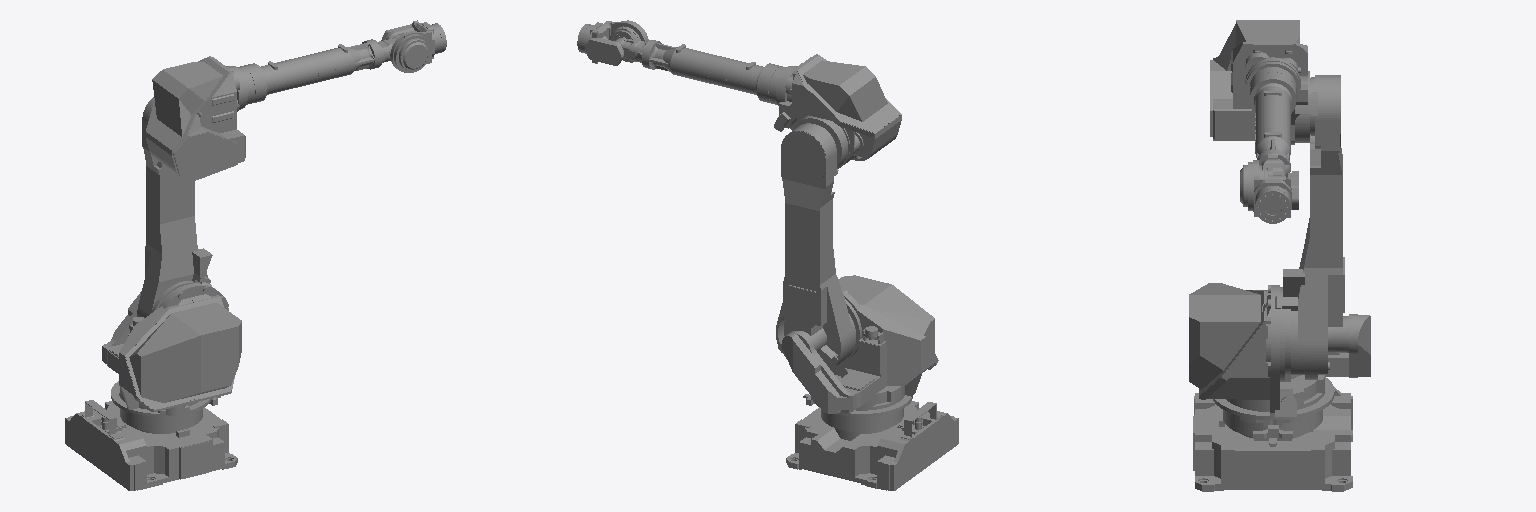
The robot description file, URDF, robot "m710ic_50":
<?xml version='1.0' encoding='utf-8'?>
<robot name="m710ic_50">
  <link name="world" />
  <link name="ee_link" />
  <link name="base_link">
    <visual>
      <origin rpy="0 0 0" xyz="0 0 0" />
      <geometry>
        <mesh filename="meshes/visual/base.obj" />
      </geometry>
      <material name="fanuc_gray">
        <color rgba="0.6 0.6 0.6 1"/>
      </material>
    </visual>
    <collision>
      <origin rpy="0 0 0" xyz="0 0 0" />
      <geometry>
        <mesh filename="meshes/collision/base.obj" />
      </geometry>
    </collision>
    <inertial>
      <mass value=" 130" />
      <origin xyz="-.0493 -.000226  .119" />
      <inertia ixx=" 3.45" ixy=" .0092" ixz=" .0522" iyy=" 3.53" iyz="-.00428" izz=" 5.62" />
    </inertial>
  </link>
  <link name="J1_link">
    <visual>
      <origin rpy="0 0 0" xyz="0 0 0" />
      <geometry>
        <mesh filename="meshes/visual/j1.obj" />
      </geometry>
      <material name="fanuc_gray">
        <color rgba="0.6 0.6 0.6 1"/>
      </material>
    </visual>
    <collision>
      <origin rpy="0 0 0" xyz="0 0 0" />
      <geometry>
        <mesh filename="meshes/collision/j1.obj" />
      </geometry>
    </collision>
    <inertial>
      <mass value=" 201" />
      <origin xyz=" .0515 -.00696 -.105" />
      <inertia ixx=" 7.51" ixy="-.334" ixz="-.508" iyy=" 6.41" iyz=" .219" izz=" 8.04" />
    </inertial>
  </link>
  <link name="J2_link">
    <visual>
      <origin rpy="0 0 0" xyz="0 0 0" />
      <geometry>
        <mesh filename="meshes/visual/j2.obj" />
      </geometry>
      <material name="fanuc_gray">
        <color rgba="0.6 0.6 0.6 1"/>
      </material>
    </visual>
    <collision>
      <origin rpy="0 0 0" xyz="0 0 0" />
      <geometry>
        <mesh filename="meshes/collision/j2.obj" />
      </geometry>
    </collision>
    <inertial>
      <mass value=" 90.9" />
      <origin xyz=" .00284  .154  .344" />
      <inertia ixx=" 7.86" ixy=" .0228" ixz=" .0016" iyy=" 8.13" iyz="-.305" izz=" .756" />
    </inertial>
  </link>
  <link name="J3_link">
    <visual>
      <origin rpy="0 0 0" xyz="0 0 0" />
      <geometry>
        <mesh filename="meshes/visual/j3.obj" />
      </geometry>
      <material name="fanuc_gray">
        <color rgba="0.6 0.6 0.6 1"/>
      </material>
    </visual>
    <collision>
      <origin rpy="0 0 0" xyz="0 0 0" />
      <geometry>
        <mesh filename="meshes/collision/j3.obj" />
      </geometry>
    </collision>
    <inertial>
      <mass value=" 95.4" />
      <origin xyz=" .0214 -.0311  .087" />
      <inertia ixx=" 1.84" ixy="-.183" ixz="-.245" iyy=" 2.4" iyz="-.0978" izz=" 2.17" />
    </inertial>
  </link>
  <link name="J4_link">
    <visual>
      <origin rpy="0 0 0" xyz="0 0 0" />
      <geometry>
        <mesh filename="meshes/visual/j4.obj" />
      </geometry>
      <material name="fanuc_gray">
        <color rgba="0.6 0.6 0.6 1"/>
      </material>
    </visual>
    <collision>
      <origin rpy="0 0 0" xyz="0 0 0" />
      <geometry>
        <mesh filename="meshes/collision/j4.obj" />
      </geometry>
    </collision>
    <inertial>
      <mass value=" 33" />
      <origin xyz=" .682 -.022  .000466" />
      <inertia ixx=" .121" ixy=" .1" ixz="-.000784" iyy=" 1.7" iyz="-.00052" izz=" 1.71" />
    </inertial>
  </link>
  <link name="J5_link">
    <visual>
      <origin rpy="0 0 0" xyz="0 0 0" />
      <geometry>
        <mesh filename="meshes/visual/j5.obj" />
      </geometry>
      <material name="fanuc_gray">
        <color rgba="0.6 0.6 0.6 1"/>
      </material>
    </visual>
    <collision>
      <origin rpy="0 0 0" xyz="0 0 0" />
      <geometry>
        <mesh filename="meshes/collision/j5.obj" />
      </geometry>
    </collision>
    <inertial>
      <mass value=" 9.23" />
      <origin xyz=" .0411  .00198 -.000000000648" />
      <inertia ixx=" .0336" ixy="-.00263" ixz=" .0000000000294" iyy=" .0498" iyz=" .000000000344" izz=" .0512" />
    </inertial>
  </link>
  <link name="J6_link">
    <visual>
      <origin rpy="0 0 0" xyz="0 0 0" />
      <geometry>
        <mesh filename="meshes/visual/j6.obj" />
      </geometry>
      <material name="fanuc_gray">
        <color rgba="0.6 0.6 0.6 1"/>
      </material>
    </visual>
    <collision>
      <origin rpy="0 0 0" xyz="0 0 0" />
      <geometry>
        <mesh filename="meshes/collision/j6.obj" />
      </geometry>
    </collision>
    <inertial>
      <mass value=" .483" />
      <origin xyz=" .165 -4.6E-18 -1.29E-18" />
      <inertia ixx=" .000937" ixy="-1.3E-18" ixz="-1.5E-19" iyy=" .000485" iyz=" .0000000000691" izz=" .000485" />
    </inertial>
  </link>
  <joint name="J1" type="revolute">
    <origin rpy="0 0 0" xyz=" 0  0  .565" />
    <parent link="base_link" />
    <child link="J1_link" />
    <axis xyz=" 0  0  1" />
    <limit effort="5000" lower="-3.141592653589793" upper="3.141592653589793" velocity="3.0543261909900767" />
  </joint>
  <joint name="J2" type="revolute">
    <origin rpy="0 0 0" xyz=" .15  0  0" />
    <parent link="J1_link" />
    <child link="J2_link" />
    <axis xyz=" 0  1  0" />
    <limit effort="7000" lower="-1.5707963267948966" upper="2.356194490192345" velocity="3.0543261909900767" />
  </joint>
  <joint name="J3" type="revolute">
    <origin rpy="0 0 0" xyz=" 0  0  .87" />
    <parent link="J2_link" />
    <child link="J3_link" />
    <axis xyz=" 0 -1  0" />
    <limit effort="6000" lower="-1.4049900478554354" upper="3.5779249665883754" velocity="3.0543261909900767" />
  </joint>
  <joint name="J4" type="revolute">
    <origin rpy="0 0 0" xyz=" 0  0  .17" />
    <parent link="J3_link" />
    <child link="J4_link" />
    <axis xyz="-1  0  0" />
    <limit effort="800" lower="-6.283185307179586" upper="6.283185307179586" velocity="4.363323129985824" />
  </joint>
  <joint name="J5" type="revolute">
    <origin rpy="0 0 0" xyz=" 1.016  0  0" />
    <parent link="J4_link" />
    <child link="J5_link" />
    <axis xyz=" 0 -1  0" />
    <limit effort="900" lower="-2.181661564992912" upper="2.181661564992912" velocity="4.363323129985824" />
  </joint>
  <joint name="J6" type="revolute">
    <origin rpy="0 0 0" xyz=" 0  0  0" />
    <parent link="J5_link" />
    <child link="J6_link" />
    <axis xyz="-1  0  0" />
    <limit effort="700" lower="-6.283185307179586" upper="6.283185307179586" velocity="6.19591884457987" />
  </joint>
  <link name="wbase" />
  <joint name="base_link-wbase" type="fixed">
    <origin rpy="0 0 0" xyz=" 0  0  .565" />
    <parent link="base_link" />
    <child link="wbase" />
  </joint>
  <link name="flange" />
  <joint name="J6-flange" type="fixed">
    <origin rpy="0 0 0" xyz=" .175  0  0" />
    <parent link="J6_link" />
    <child link="flange" />
  </joint>
  <link name="fanuc_flange" />
  <joint name="flange-fanuc_flange" type="fixed">
    <origin rpy="3.141592653589793 -1.5707963267948966 0.0" xyz="0 0 0" />
    <parent link="flange" />
    <child link="fanuc_flange" />
  </joint>
  <joint name="base_joint" type="fixed">
    <origin rpy="0 0 0" xyz="0 0 0" />
    <parent link="world" />
    <child link="base_link" />
  </joint>
  <joint name="child_joint" type="fixed">
    <origin rpy="0 0 0" xyz="0 0 0" />
    <parent link="flange" />
    <child link="ee_link" />
  </joint>
</robot>

--- What the picture shows (computed from the rendered views, not written in the file) ---
Views: 3 orthographic renders of the robot side by side, from view 1: azimuth 30°, elevation 25°; view 2: azimuth 150°, elevation 25°; view 3: azimuth 270°, elevation 25°.
Model m710ic_50 with 12 links and 11 joints (6 revolute, 5 fixed), rooted at world, posed every joint at zero.
Visible links, largest first — view 1: J1_link, J3_link, base_link, J2_link, J4_link, J5_link; view 2: J1_link, J2_link, base_link, J3_link, J4_link, J5_link; view 3: J1_link, J2_link, base_link, J3_link, J4_link, J5_link, J6_link.
Boxes of the visible links, box(x1,y1,x2,y2) form: J1_link: box(102, 281, 241, 416); J3_link: box(145, 56, 262, 180); base_link: box(65, 400, 237, 490); J2_link: box(137, 97, 212, 317); J4_link: box(248, 34, 430, 101); J5_link: box(381, 20, 441, 72); J1_link: box(782, 275, 938, 416); J2_link: box(776, 123, 855, 369); base_link: box(786, 401, 958, 490); J3_link: box(761, 54, 901, 168); J4_link: box(610, 20, 774, 101); J5_link: box(582, 21, 646, 65); J1_link: box(1189, 283, 1370, 446); J2_link: box(1282, 75, 1346, 379); base_link: box(1193, 387, 1352, 491); J3_link: box(1210, 20, 1317, 144); J4_link: box(1240, 76, 1296, 210); J5_link: box(1253, 160, 1298, 217); J6_link: box(1255, 189, 1290, 223).
Size in the robot's own frame: 1.65 by 0.6319 by 1.74 metres.
Meshes: 7 distinct files referenced, 7 mesh visuals loaded (7 OBJ).
